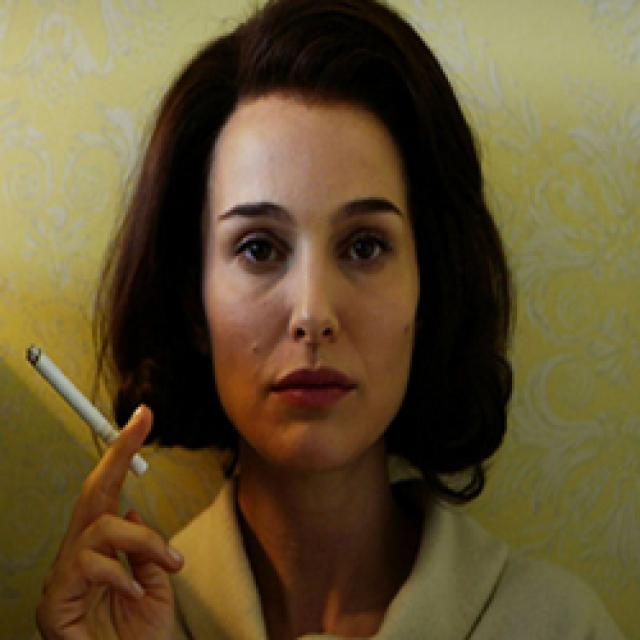Smooking: (16, 336, 153, 482)
